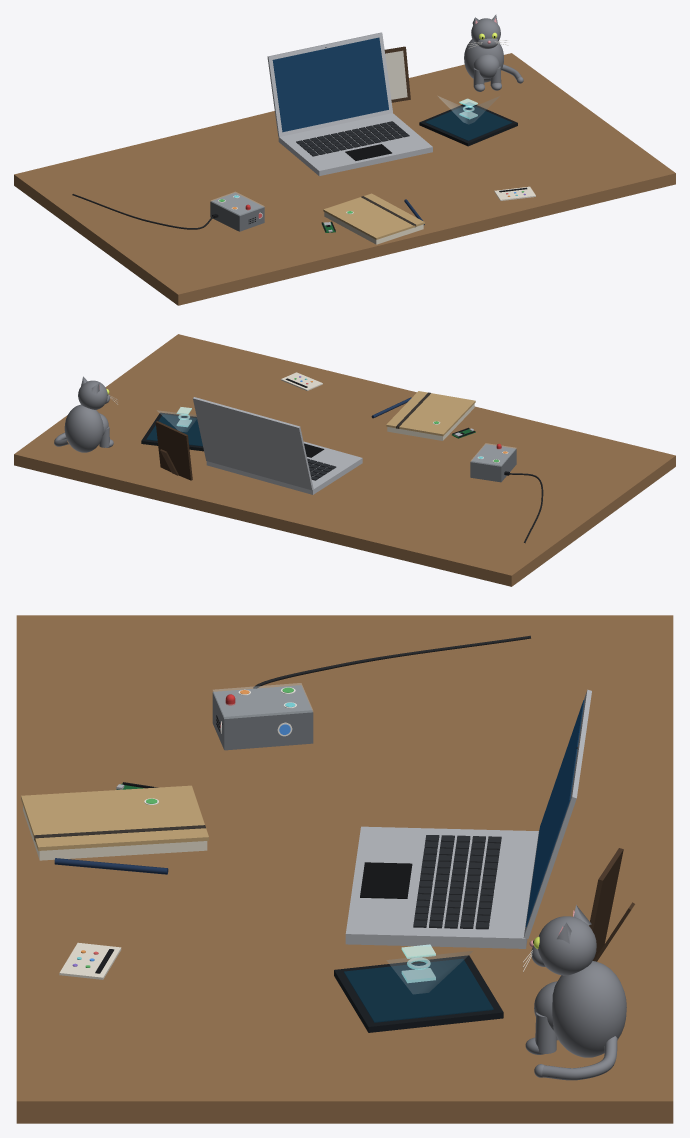
The picture shows the model from 3 angles, top to bottom: view 1: azimuth 30°, elevation 25°; view 2: azimuth 150°, elevation 25°; view 3: azimuth 270°, elevation 25°; orthographic projection. The views are drawn at different scales.
Parts seen in each view (by area): view 1: desk, laptop-glass, laptop-base, notebook-cover, laptop-screen, pyramid-face, puck-shell, frame-photo, pyramid-base, cat-body, puck-lid, pyramid-glass (+4 smaller); view 2: desk, laptop-screen, notebook-cover, laptop-base, cat-body, frame-border, puck-shell, pyramid-face, cat-head, puck-lid, pyramid-glass, notebook-pages (+1 smaller); view 3: desk, laptop-base, notebook-cover, pyramid-face, cat-body, puck-shell, laptop-glass, pyramid-base, cat-head, puck-lid, pyramid-glass, notebook-pages (+7 smaller).
Part boxes in pixels (x1,y1,x2,y2): desk: (14, 53, 675, 305); laptop-glass: (272, 37, 388, 132); laptop-base: (278, 113, 432, 176); notebook-cover: (323, 193, 424, 239); laptop-screen: (267, 32, 392, 136); pyramid-face: (425, 104, 512, 140); puck-shell: (210, 192, 264, 231); frame-photo: (385, 50, 407, 99); pyramid-base: (419, 102, 517, 146); cat-body: (464, 39, 503, 82); puck-lid: (210, 192, 264, 215); pyramid-glass: (438, 96, 499, 124); desk: (14, 334, 675, 586); laptop-screen: (193, 397, 313, 490); notebook-cover: (386, 391, 475, 436); laptop-base: (206, 441, 362, 494); cat-body: (64, 404, 103, 452); frame-border: (155, 421, 192, 480); puck-shell: (470, 444, 516, 482); pyramid-face: (146, 414, 202, 446); cat-head: (78, 380, 107, 409); puck-lid: (470, 443, 516, 466); pyramid-glass: (157, 410, 196, 431); notebook-pages: (387, 404, 474, 440); desk: (16, 615, 673, 1123); laptop-base: (345, 826, 538, 948); notebook-cover: (21, 785, 208, 850); pyramid-face: (344, 958, 493, 1022); cat-body: (552, 961, 626, 1057); puck-shell: (212, 685, 313, 750); laptop-glass: (525, 700, 584, 927); pyramid-base: (334, 955, 503, 1032); cat-head: (538, 916, 596, 975); puck-lid: (213, 683, 312, 718); pyramid-glass: (387, 951, 472, 993); notebook-pages: (23, 806, 207, 860).
Bounding box in the file's own units: 1.4 × 0.236 × 0.8.
